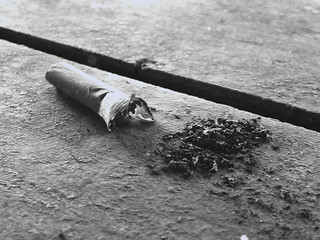cigarette: (43, 59, 157, 135)
